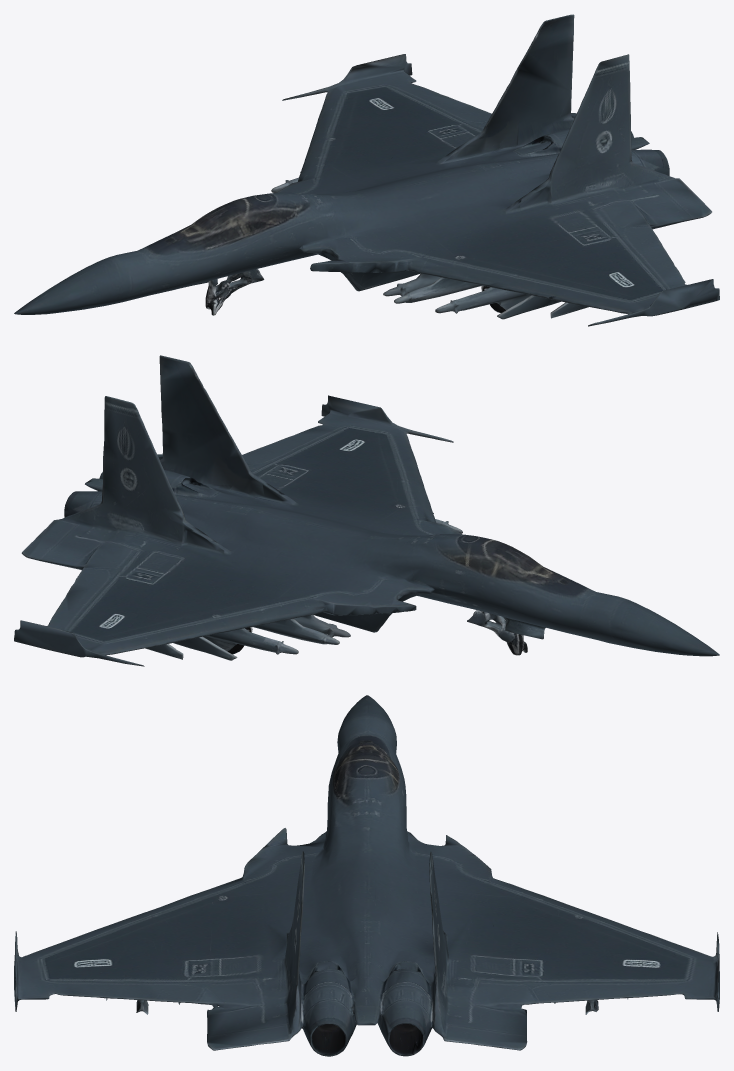
File: avion-chasse-futuriste.glb
3 renders of one model, top to bottom at view 1: azimuth 30°, elevation 25°; view 2: azimuth 150°, elevation 25°; view 3: azimuth 270°, elevation 25°, orthographic. The views are drawn at different scales.
Visible parts, largest first — view 1: Mesh_0.001; view 2: Mesh_0.001; view 3: Mesh_0.001.
Part boxes in pixels (bbox=[...]): Mesh_0.001: bbox=[14, 14, 719, 326]; Mesh_0.001: bbox=[14, 355, 719, 666]; Mesh_0.001: bbox=[14, 695, 719, 1056].
Bounding box in the file's own units: 15.78 × 5 × 13.38.
Materials: 1 (1 with a texture image).
